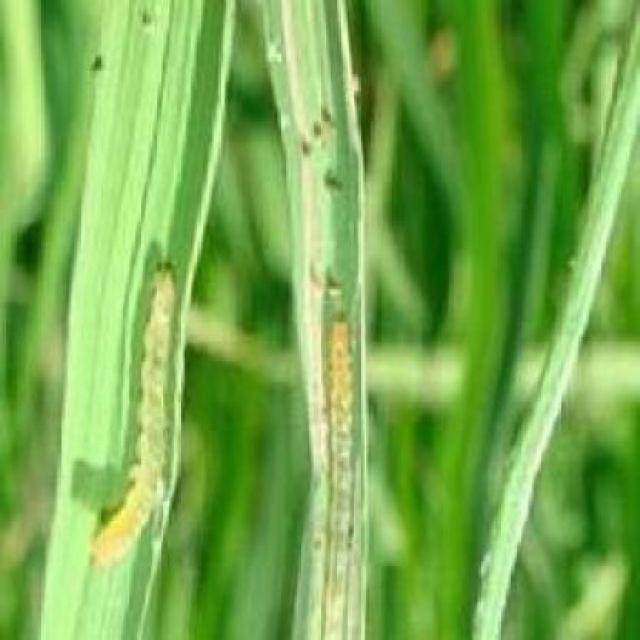leaf-folder: (293, 272, 402, 608), (92, 245, 191, 540)
